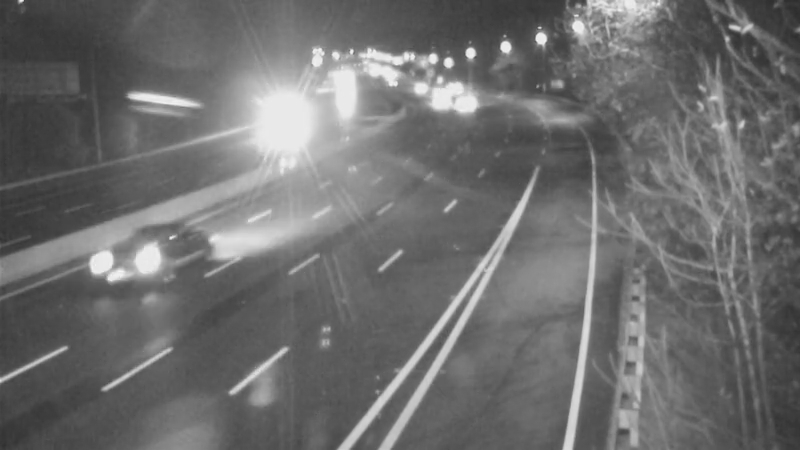vehicle: (86, 230, 166, 310), (368, 57, 418, 107), (393, 64, 443, 114), (429, 61, 479, 111), (414, 68, 464, 118), (414, 76, 464, 126), (437, 80, 487, 130), (251, 100, 301, 150)
